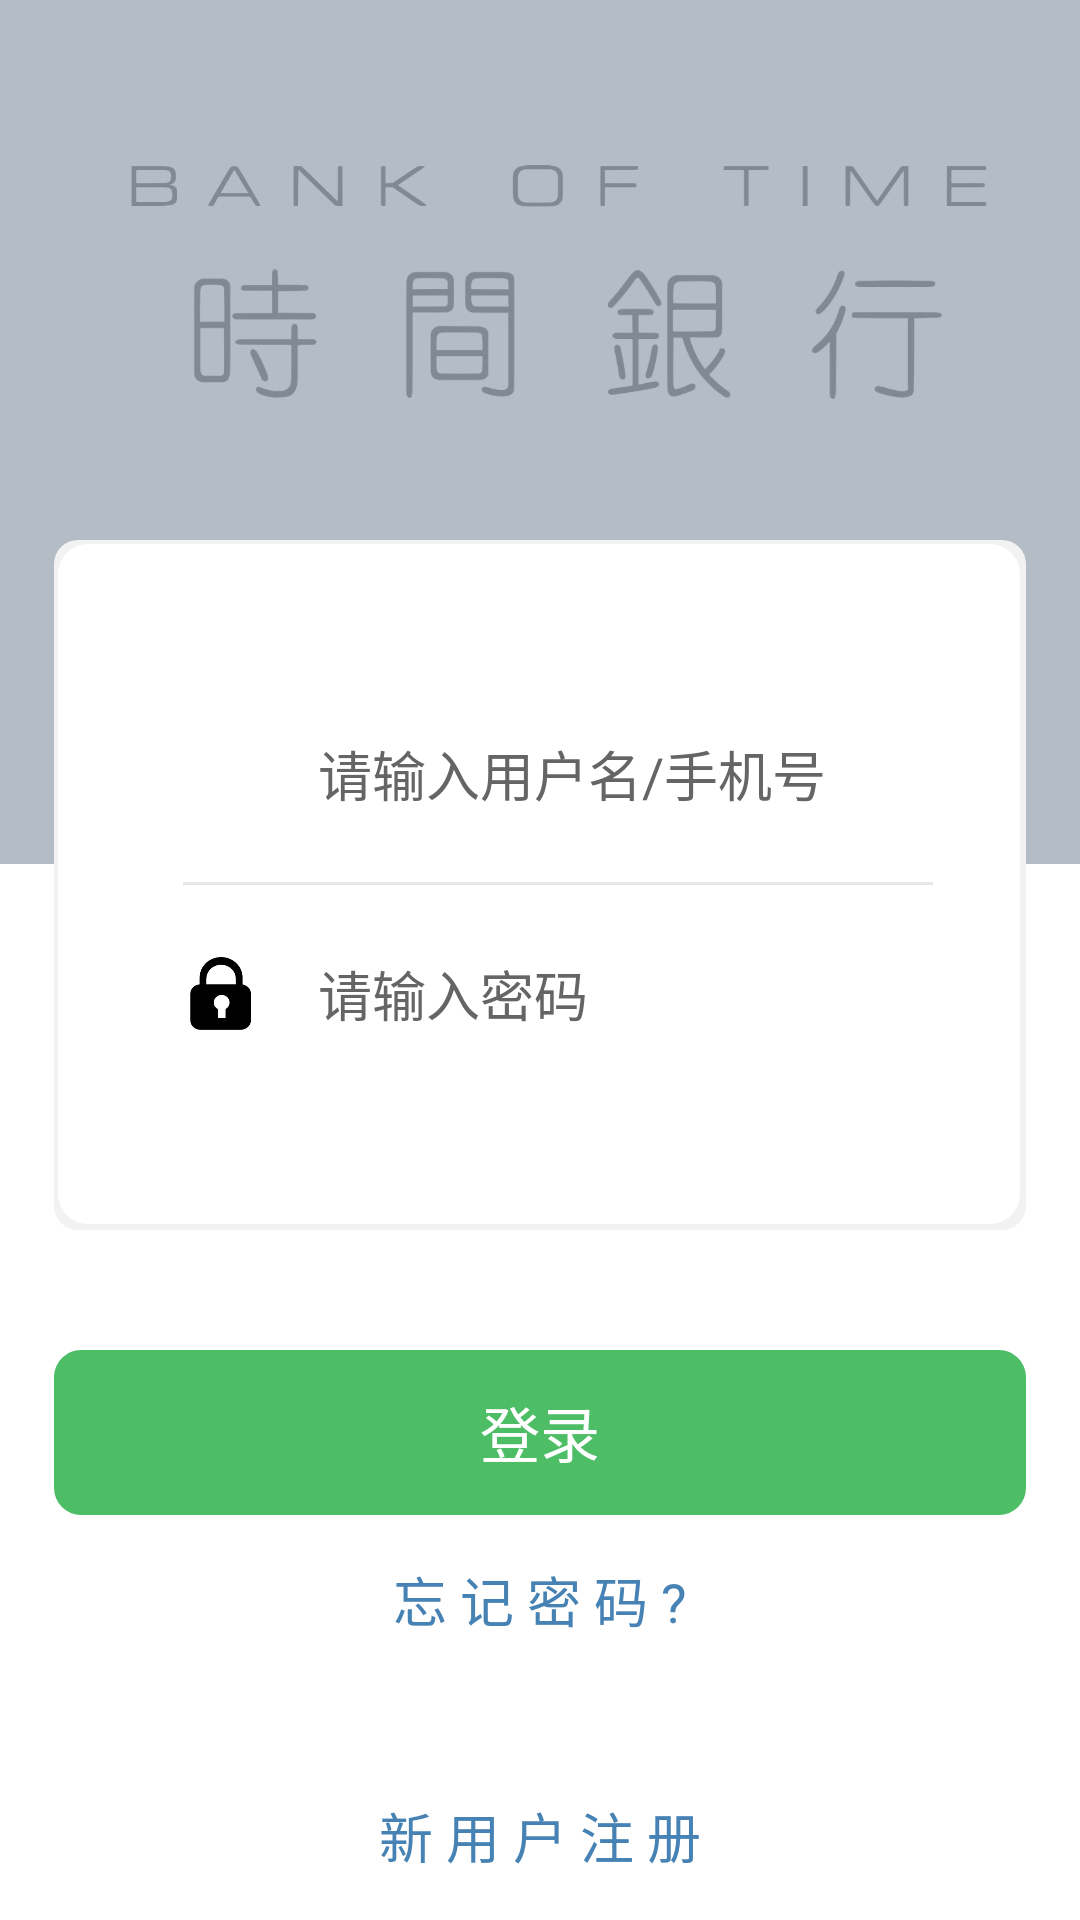

Icons on this 1080px x 1920px Android screen, each with its box as bbox(x1, y1, x2, y2):
login password: bbox(190, 957, 251, 1030)
